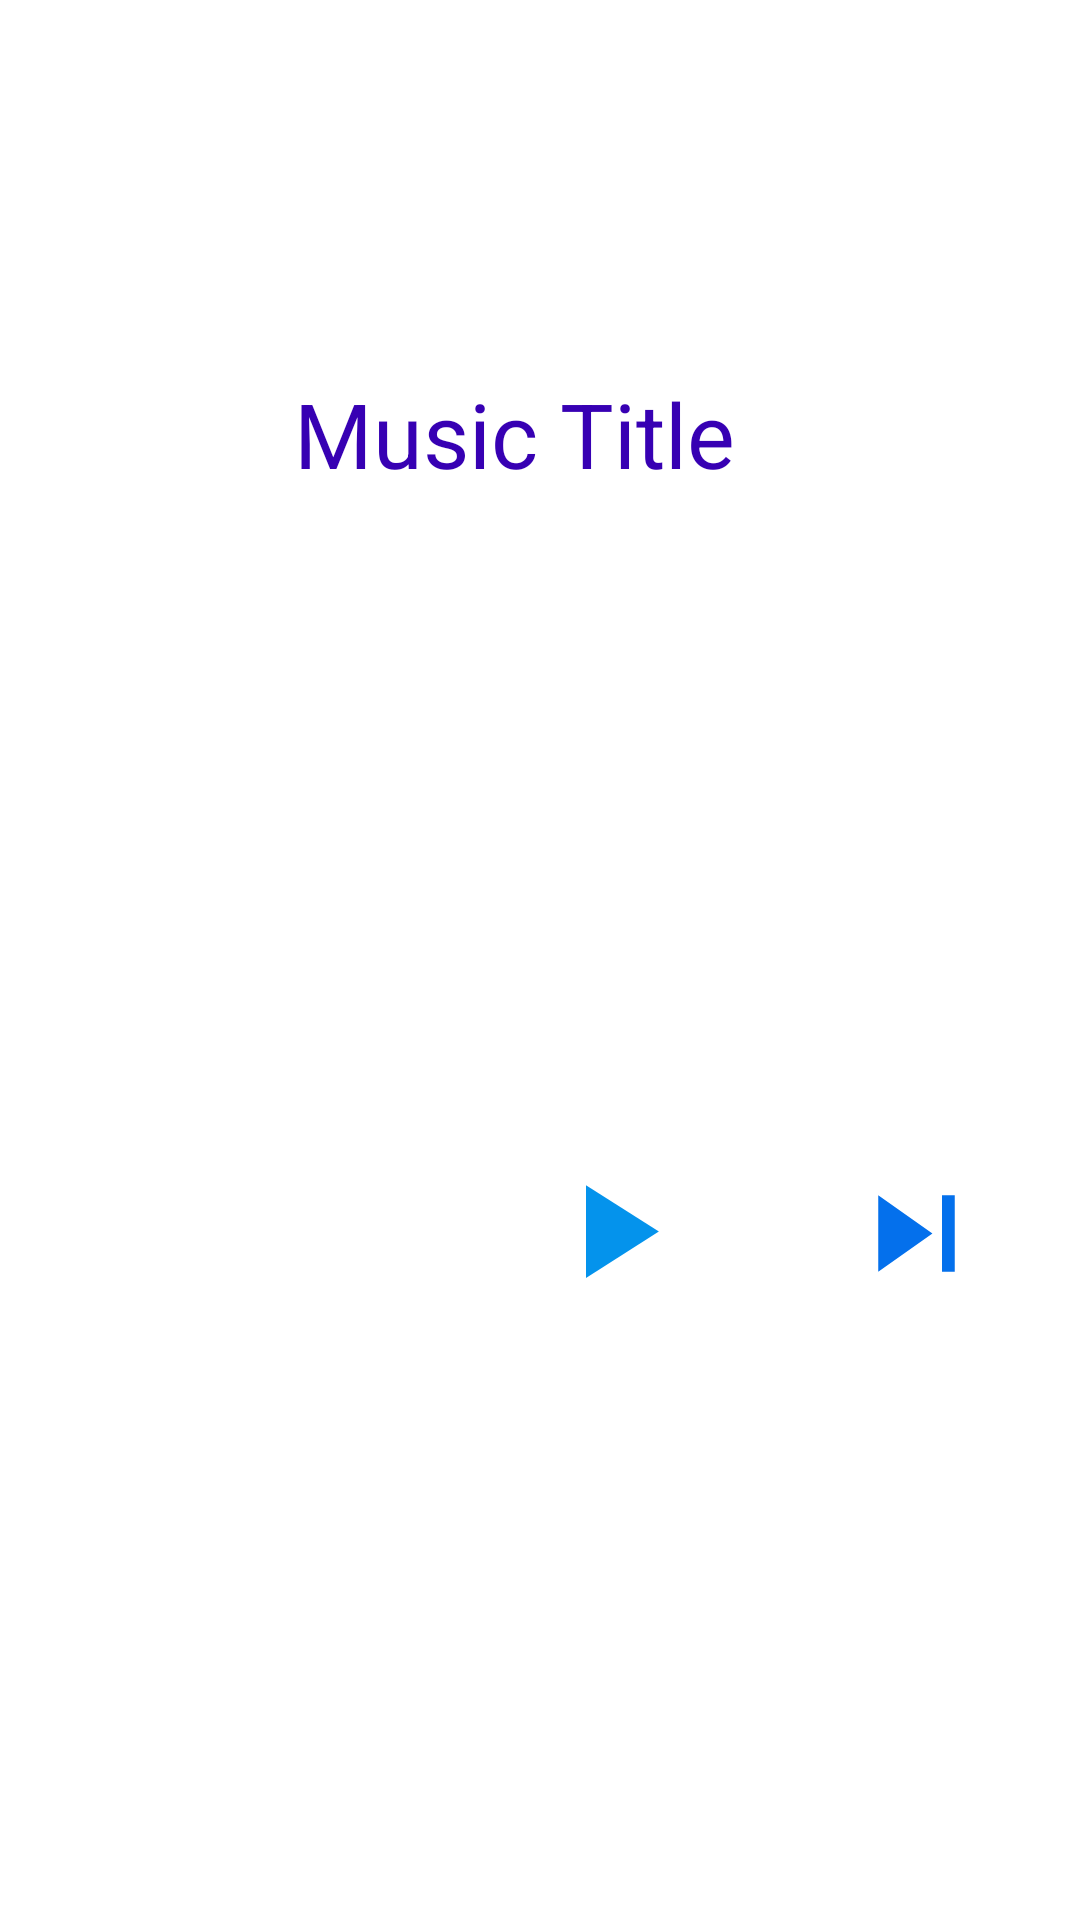

Icon click points for this 1080px×1920px phone screenshot, format point (x, y):
next: point (916, 1233)
play: point (622, 1231)
